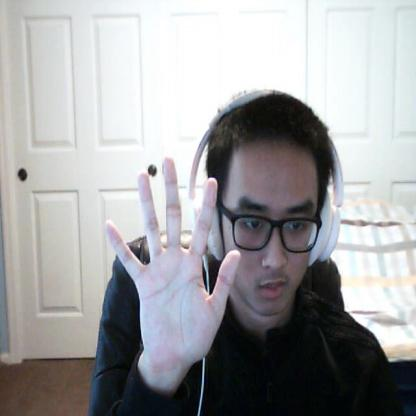palm: (106, 156, 246, 366)
